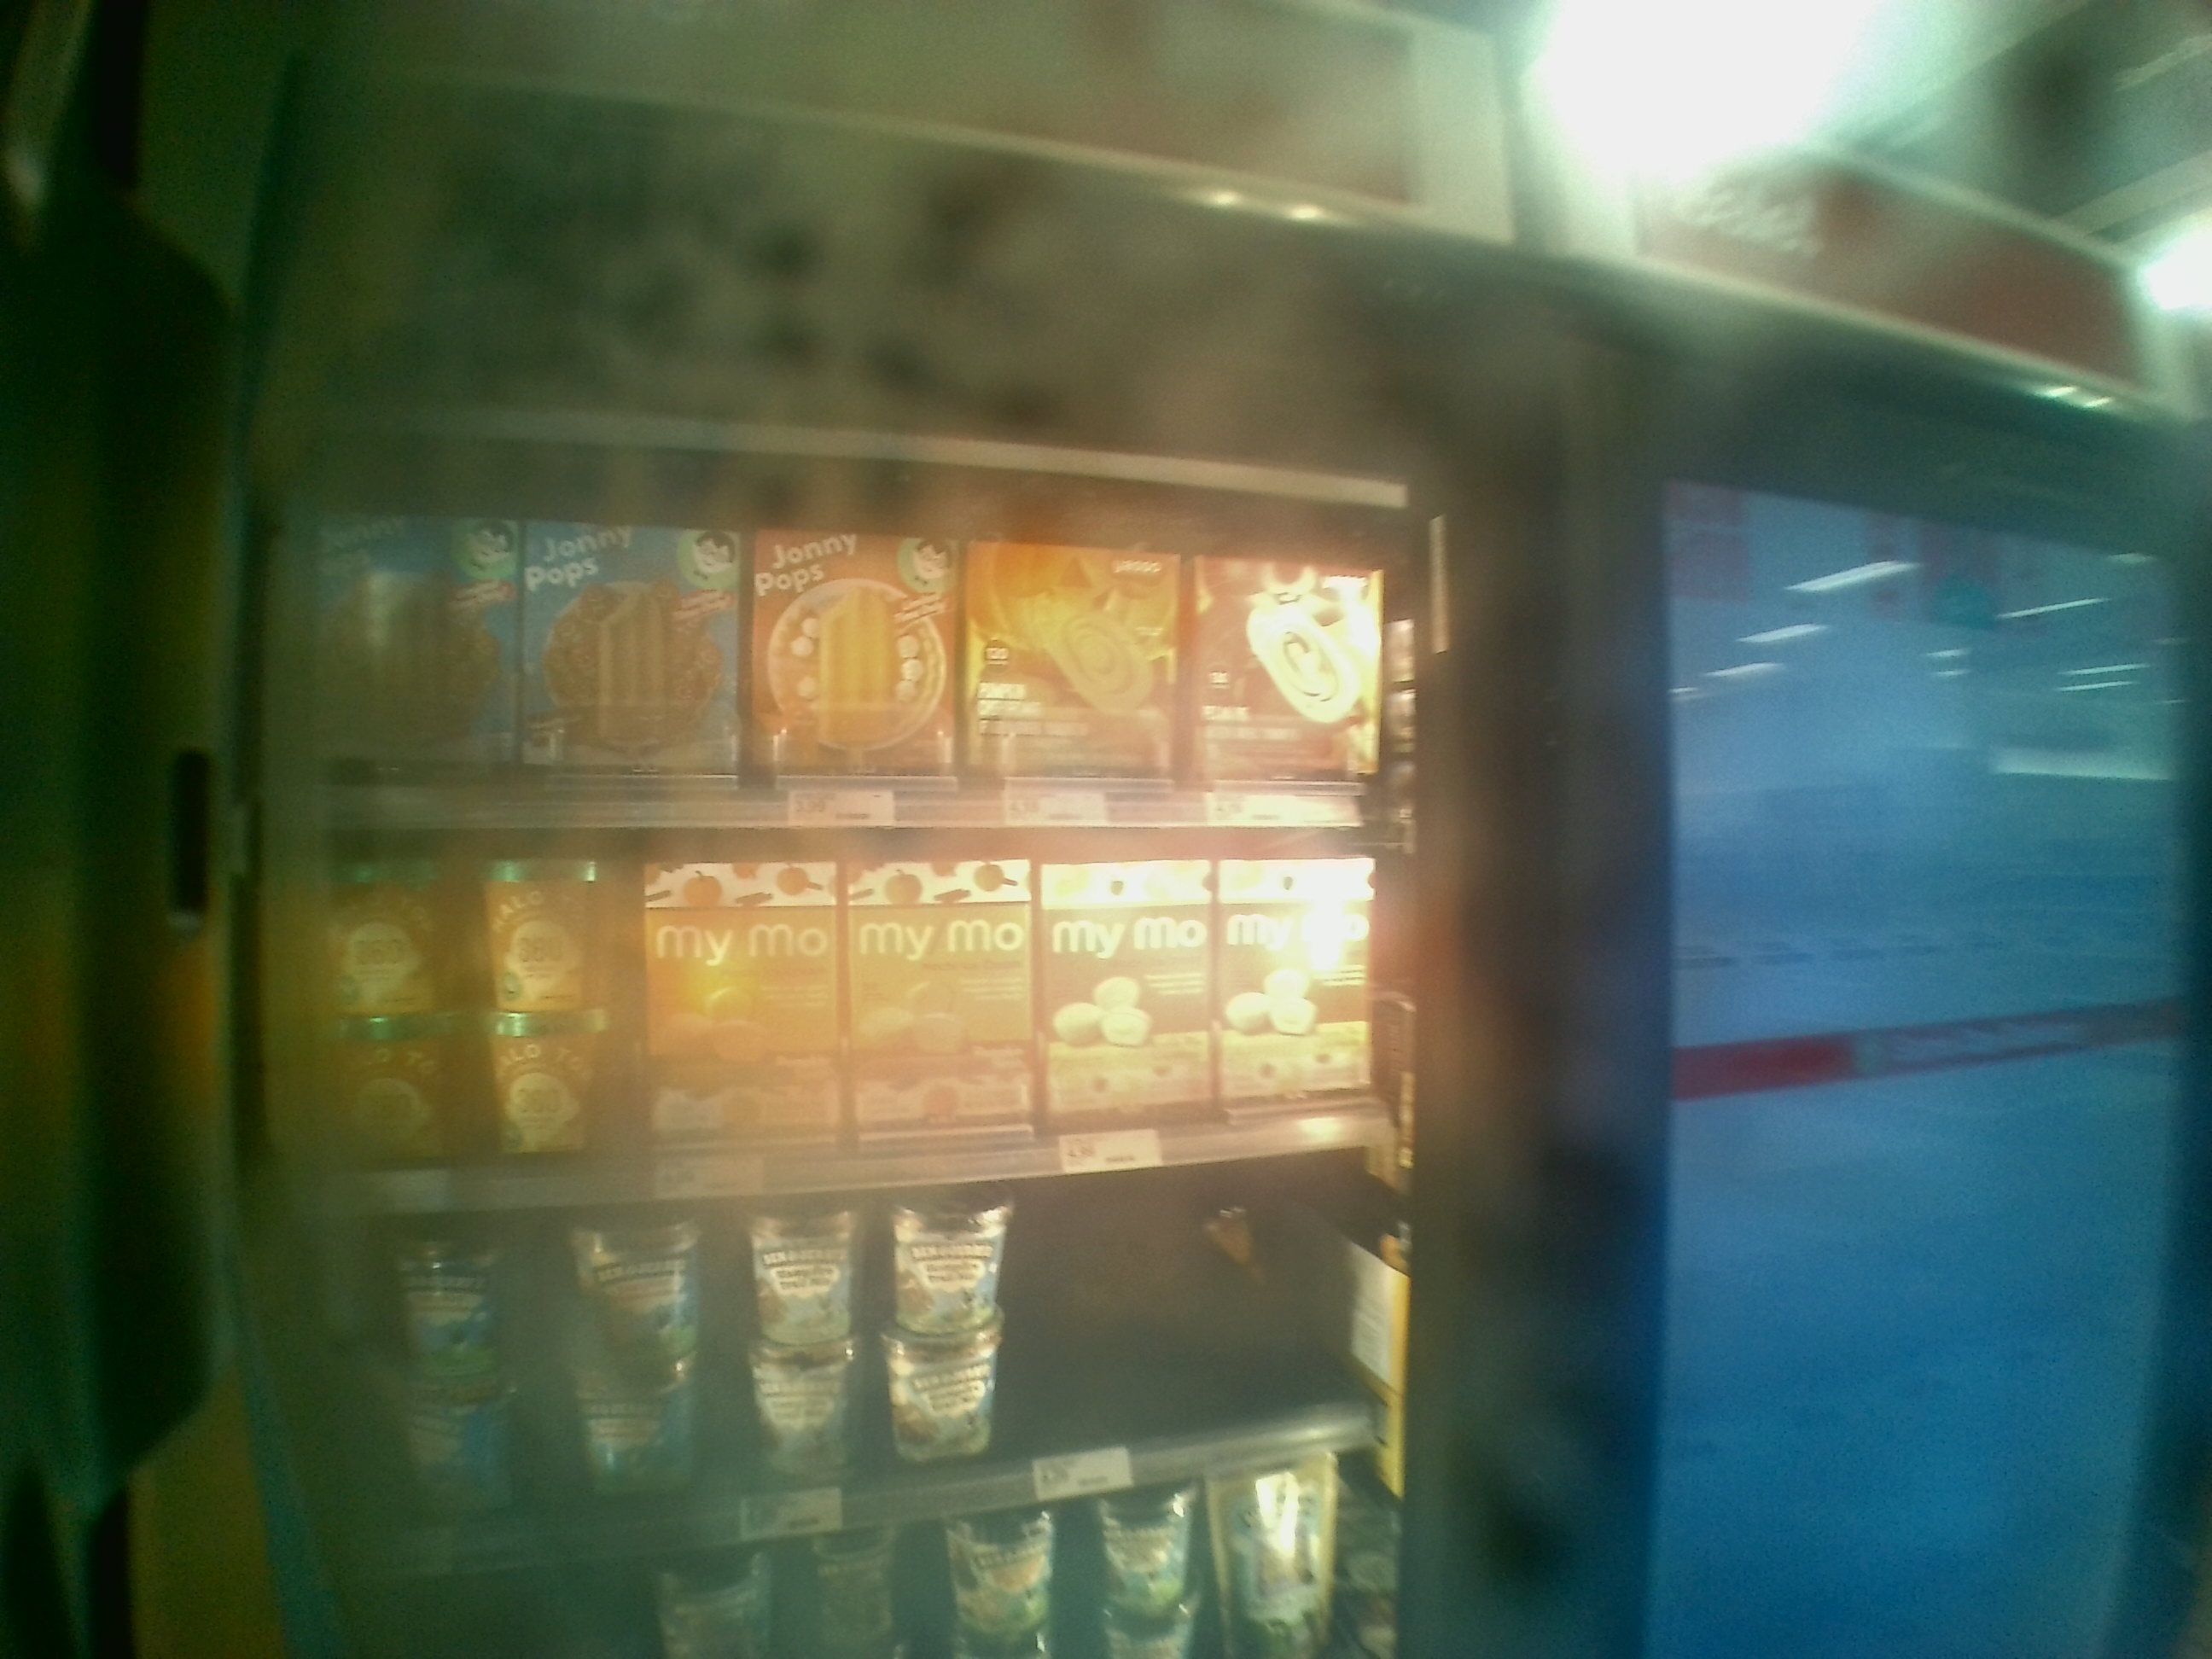shelf: (265, 450, 1407, 838), (253, 807, 1395, 1148), (291, 1180, 1383, 1464)
